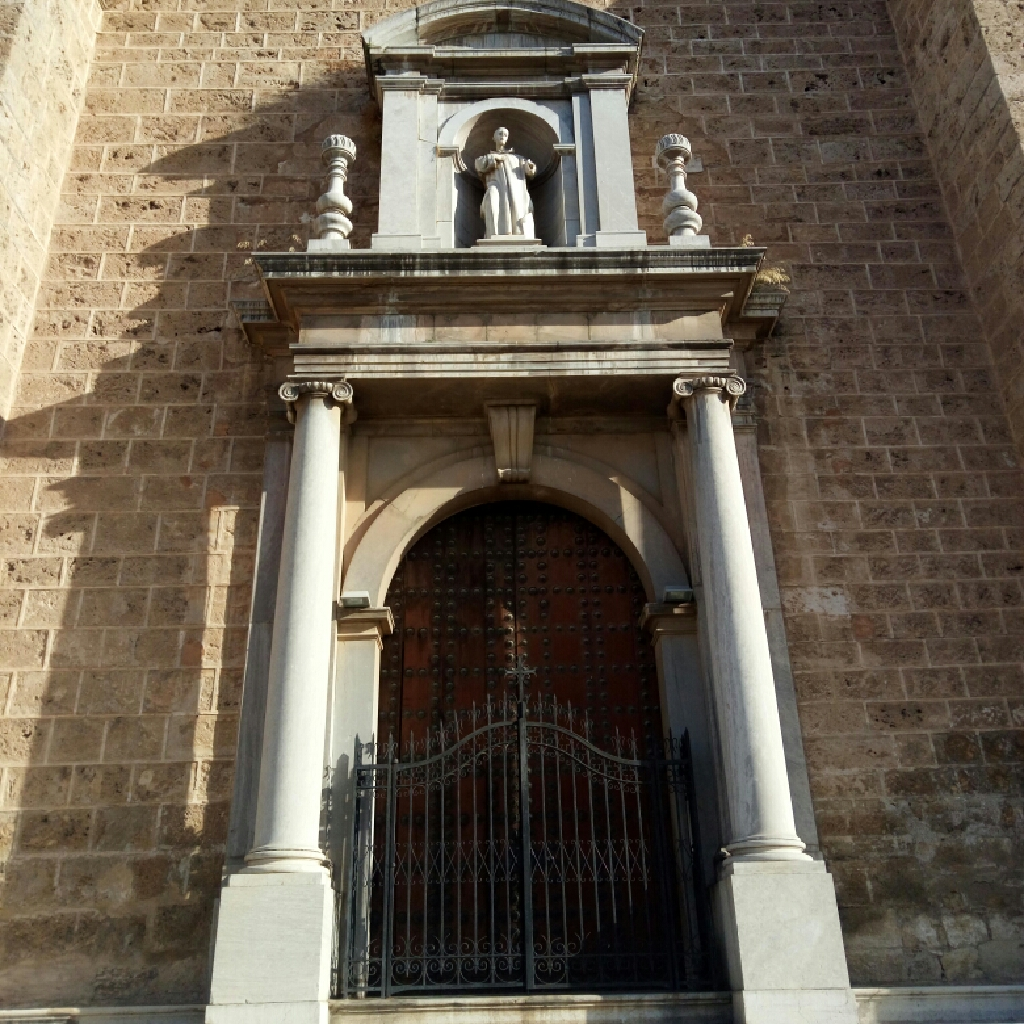arco-medio-punto: (363, 476, 674, 665), (448, 104, 568, 167)
fronton-curvo: (359, 1, 642, 74)
